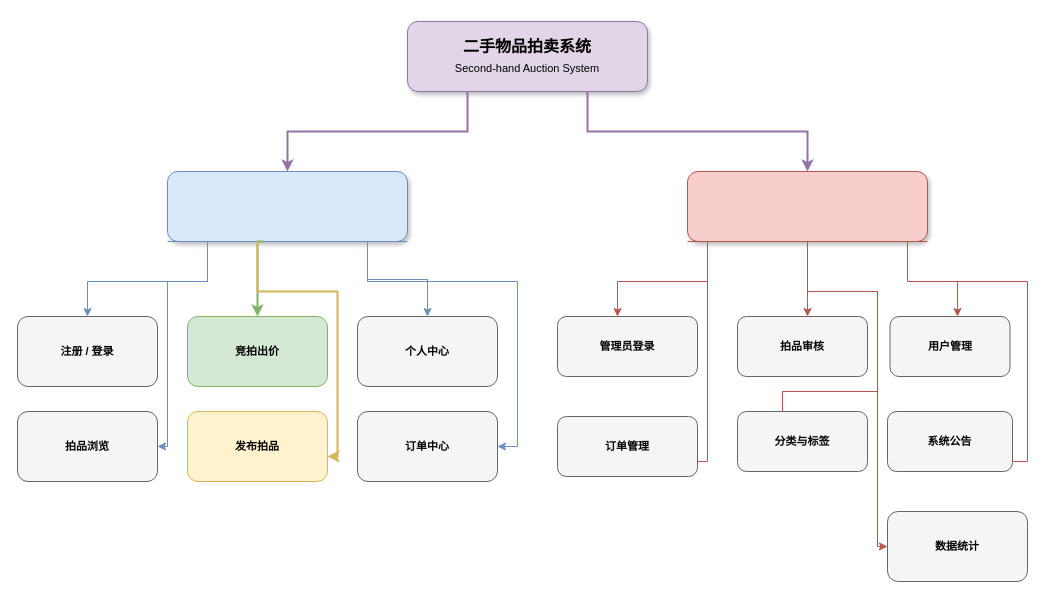
This 1046x599 diagram has some shape labels left out. The shapes that lost their labels are listed below. From the top down, each one's centre as x and y in pixels, then its label:
At (x=288, y=207): "用户端".
At (x=808, y=207): "管理后台".
